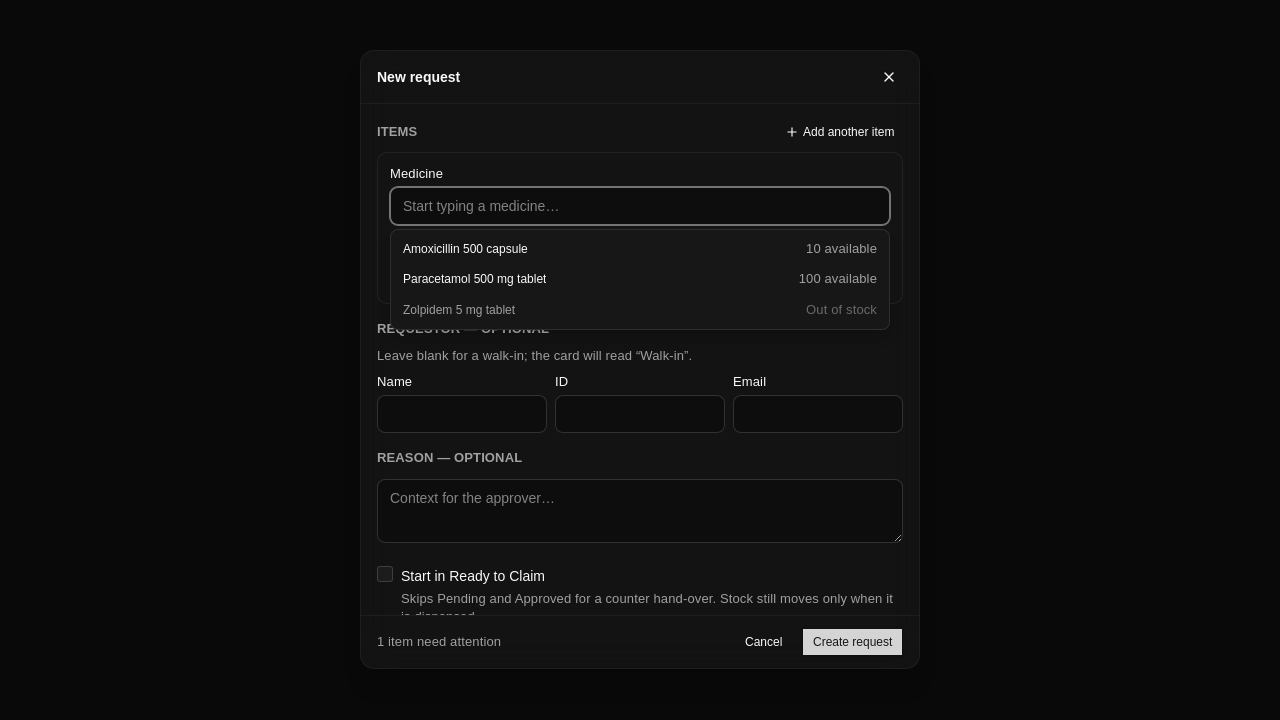
NewRequestModal stock validation (spec §4–§6) › blocks submit on an unavailable item and says why inline
Type "Zolpidem 5 mg tablet" into the dropdown with placeholder "Start typing a medicine…".
click(640, 207); type("Zolpidem 5 mg tablet")  # box [390,188,890,226]
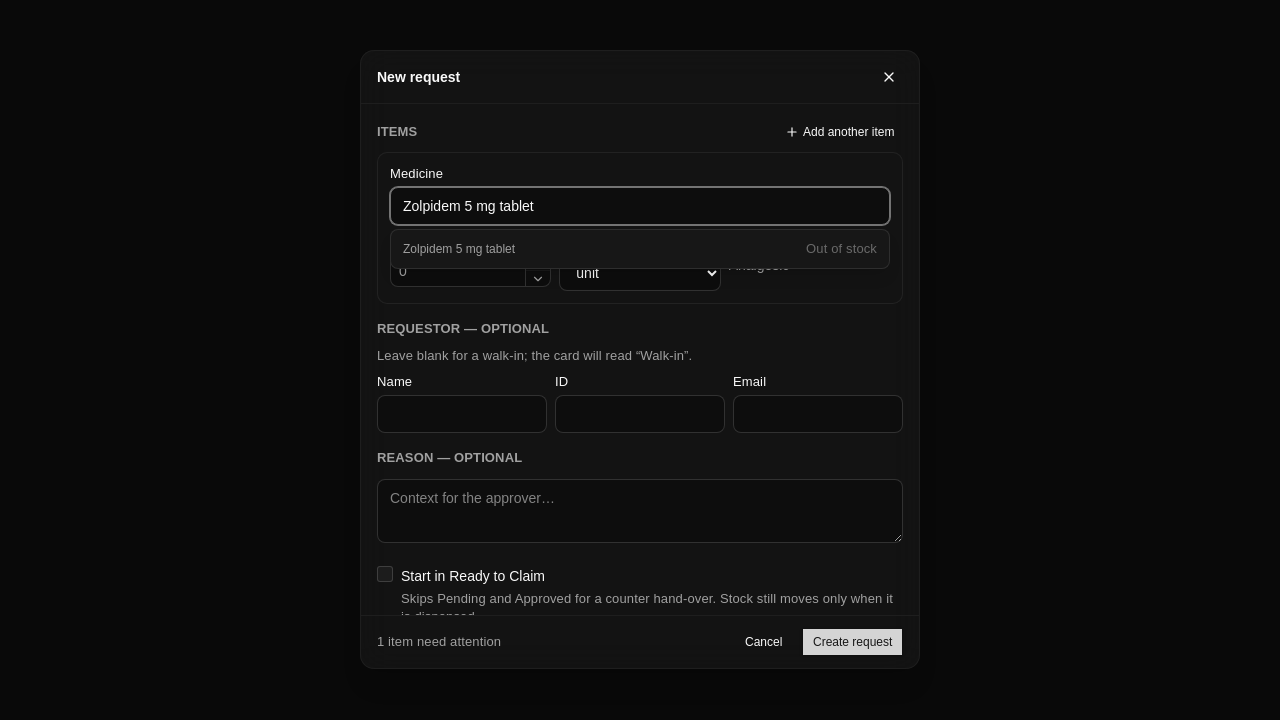
Select "tabs" in the dropdown labelled "Unit" at (640, 274), box [559,256,721,292]
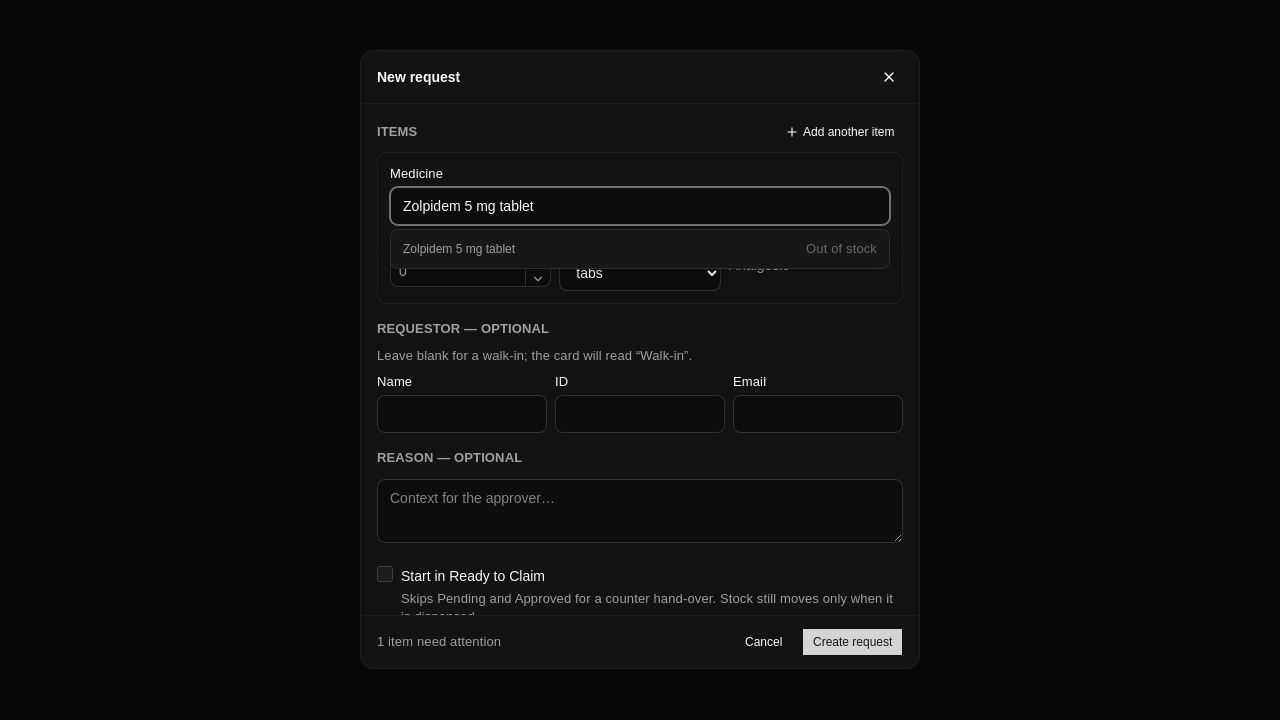
Type "5" into the number field named "Quantity".
click(458, 272); type("5")  # box [391,257,525,287]
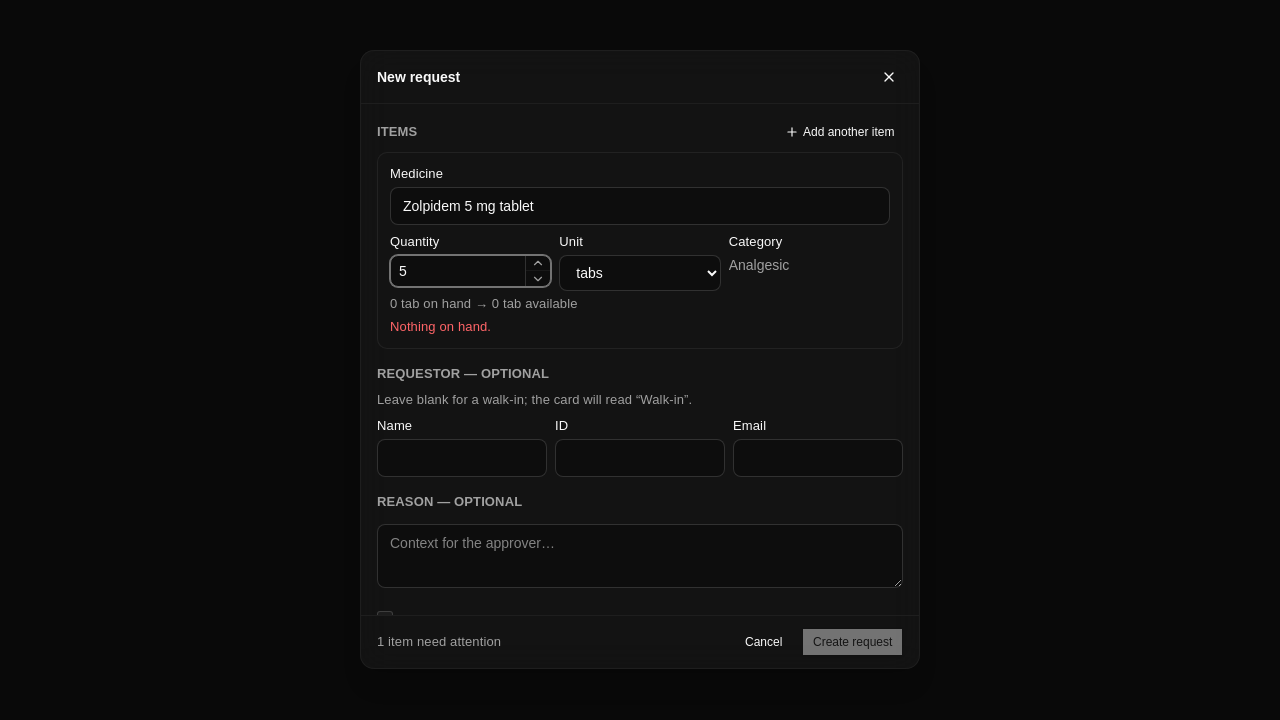
Check: the text "1 item need attention" is shown, box [377,634,501,652]
Check: the text "Nothing on hand." is shown, box [390,319,491,334]
Check: the button "Create request" is disabled, box [802,629,903,657]
